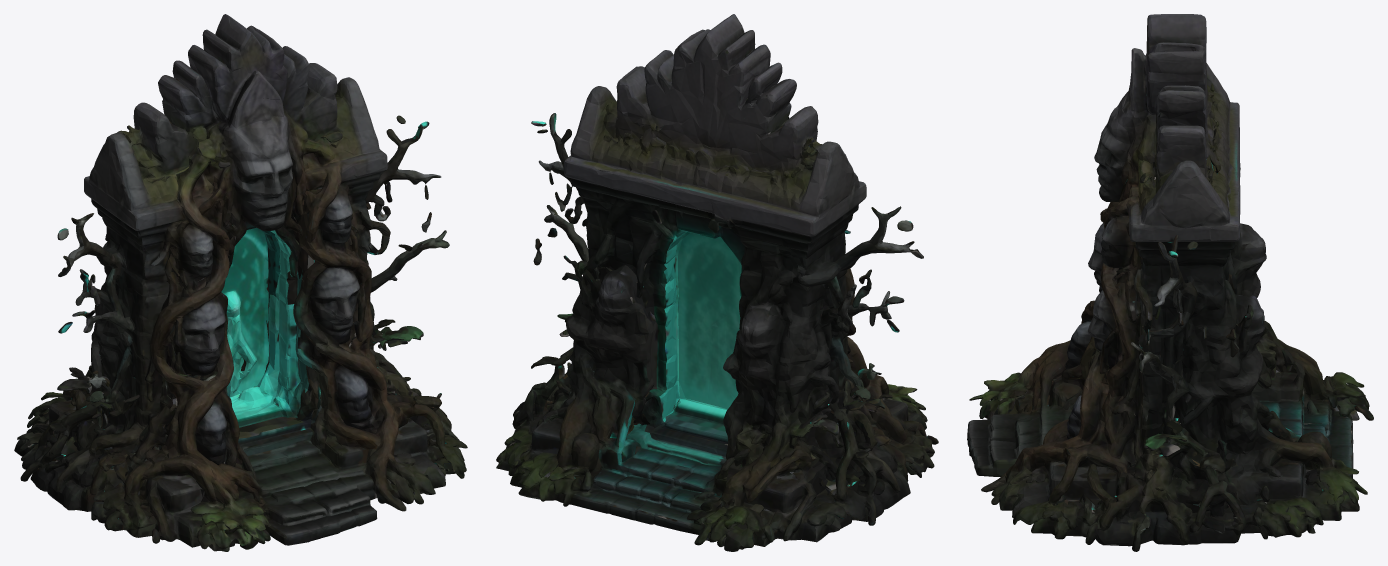
File: memory_shrine.glb
3 views of the same model, side by side, from view 1: azimuth 30°, elevation 25°; view 2: azimuth 150°, elevation 25°; view 3: azimuth 270°, elevation 25° (orthographic).
Parts seen in each view (by area): view 1: world; view 2: world; view 3: world.
Boxes of the visible parts, x1,y1,x2,y2 form: world: (14,14,467,551); world: (496,14,938,551); world: (967,14,1373,551).
Bounding box in the file's own units: 1.84 × 1.99 × 1.65.
1 material, 1 textured.
